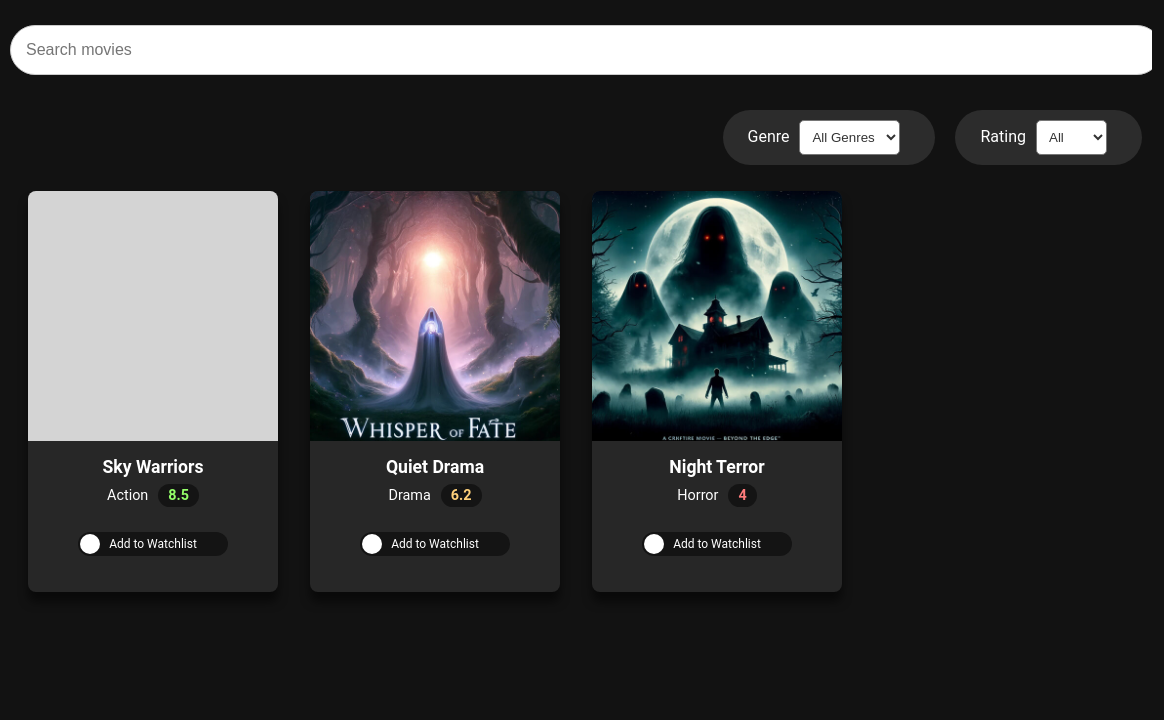
Test case: filters the catalog by rating category
Select "Good" in the dropdown labelled "Rating". click: x=1072, y=138
box: [1036,120,1107,155]
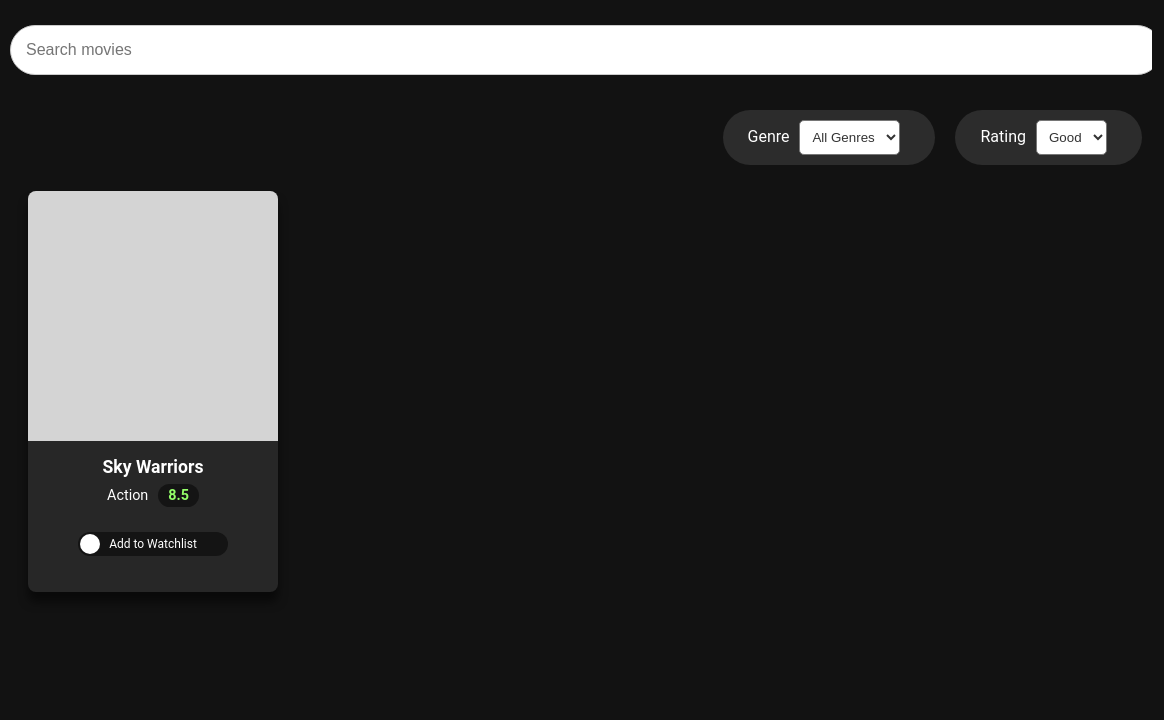
Expected: the heading "Sky Warriors" is shown, [102,457,203,477]
Expected: the heading "Quiet Drama" is gone
